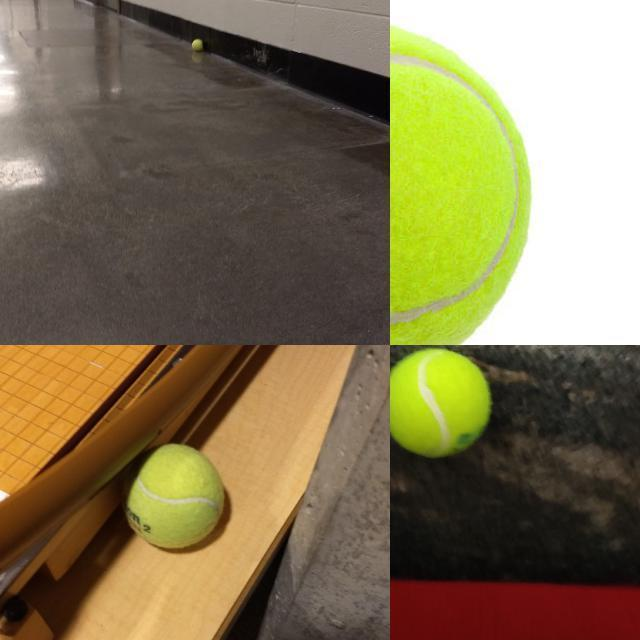tennis-ball: (390, 18, 532, 344), (121, 442, 226, 551), (390, 347, 492, 459), (192, 38, 203, 51)
